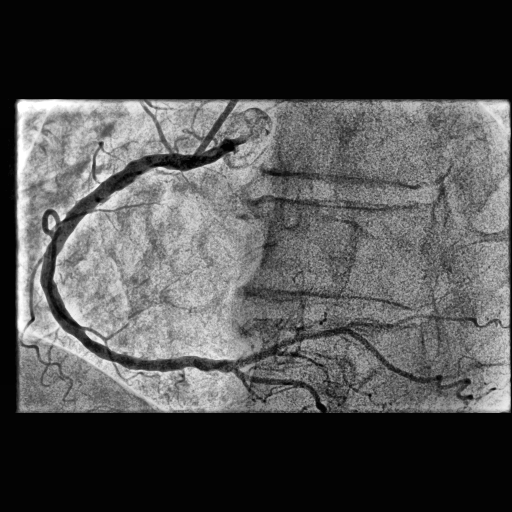pborca: (234, 327, 474, 401)
pda: (231, 369, 327, 414)
rca: (40, 153, 237, 372)
